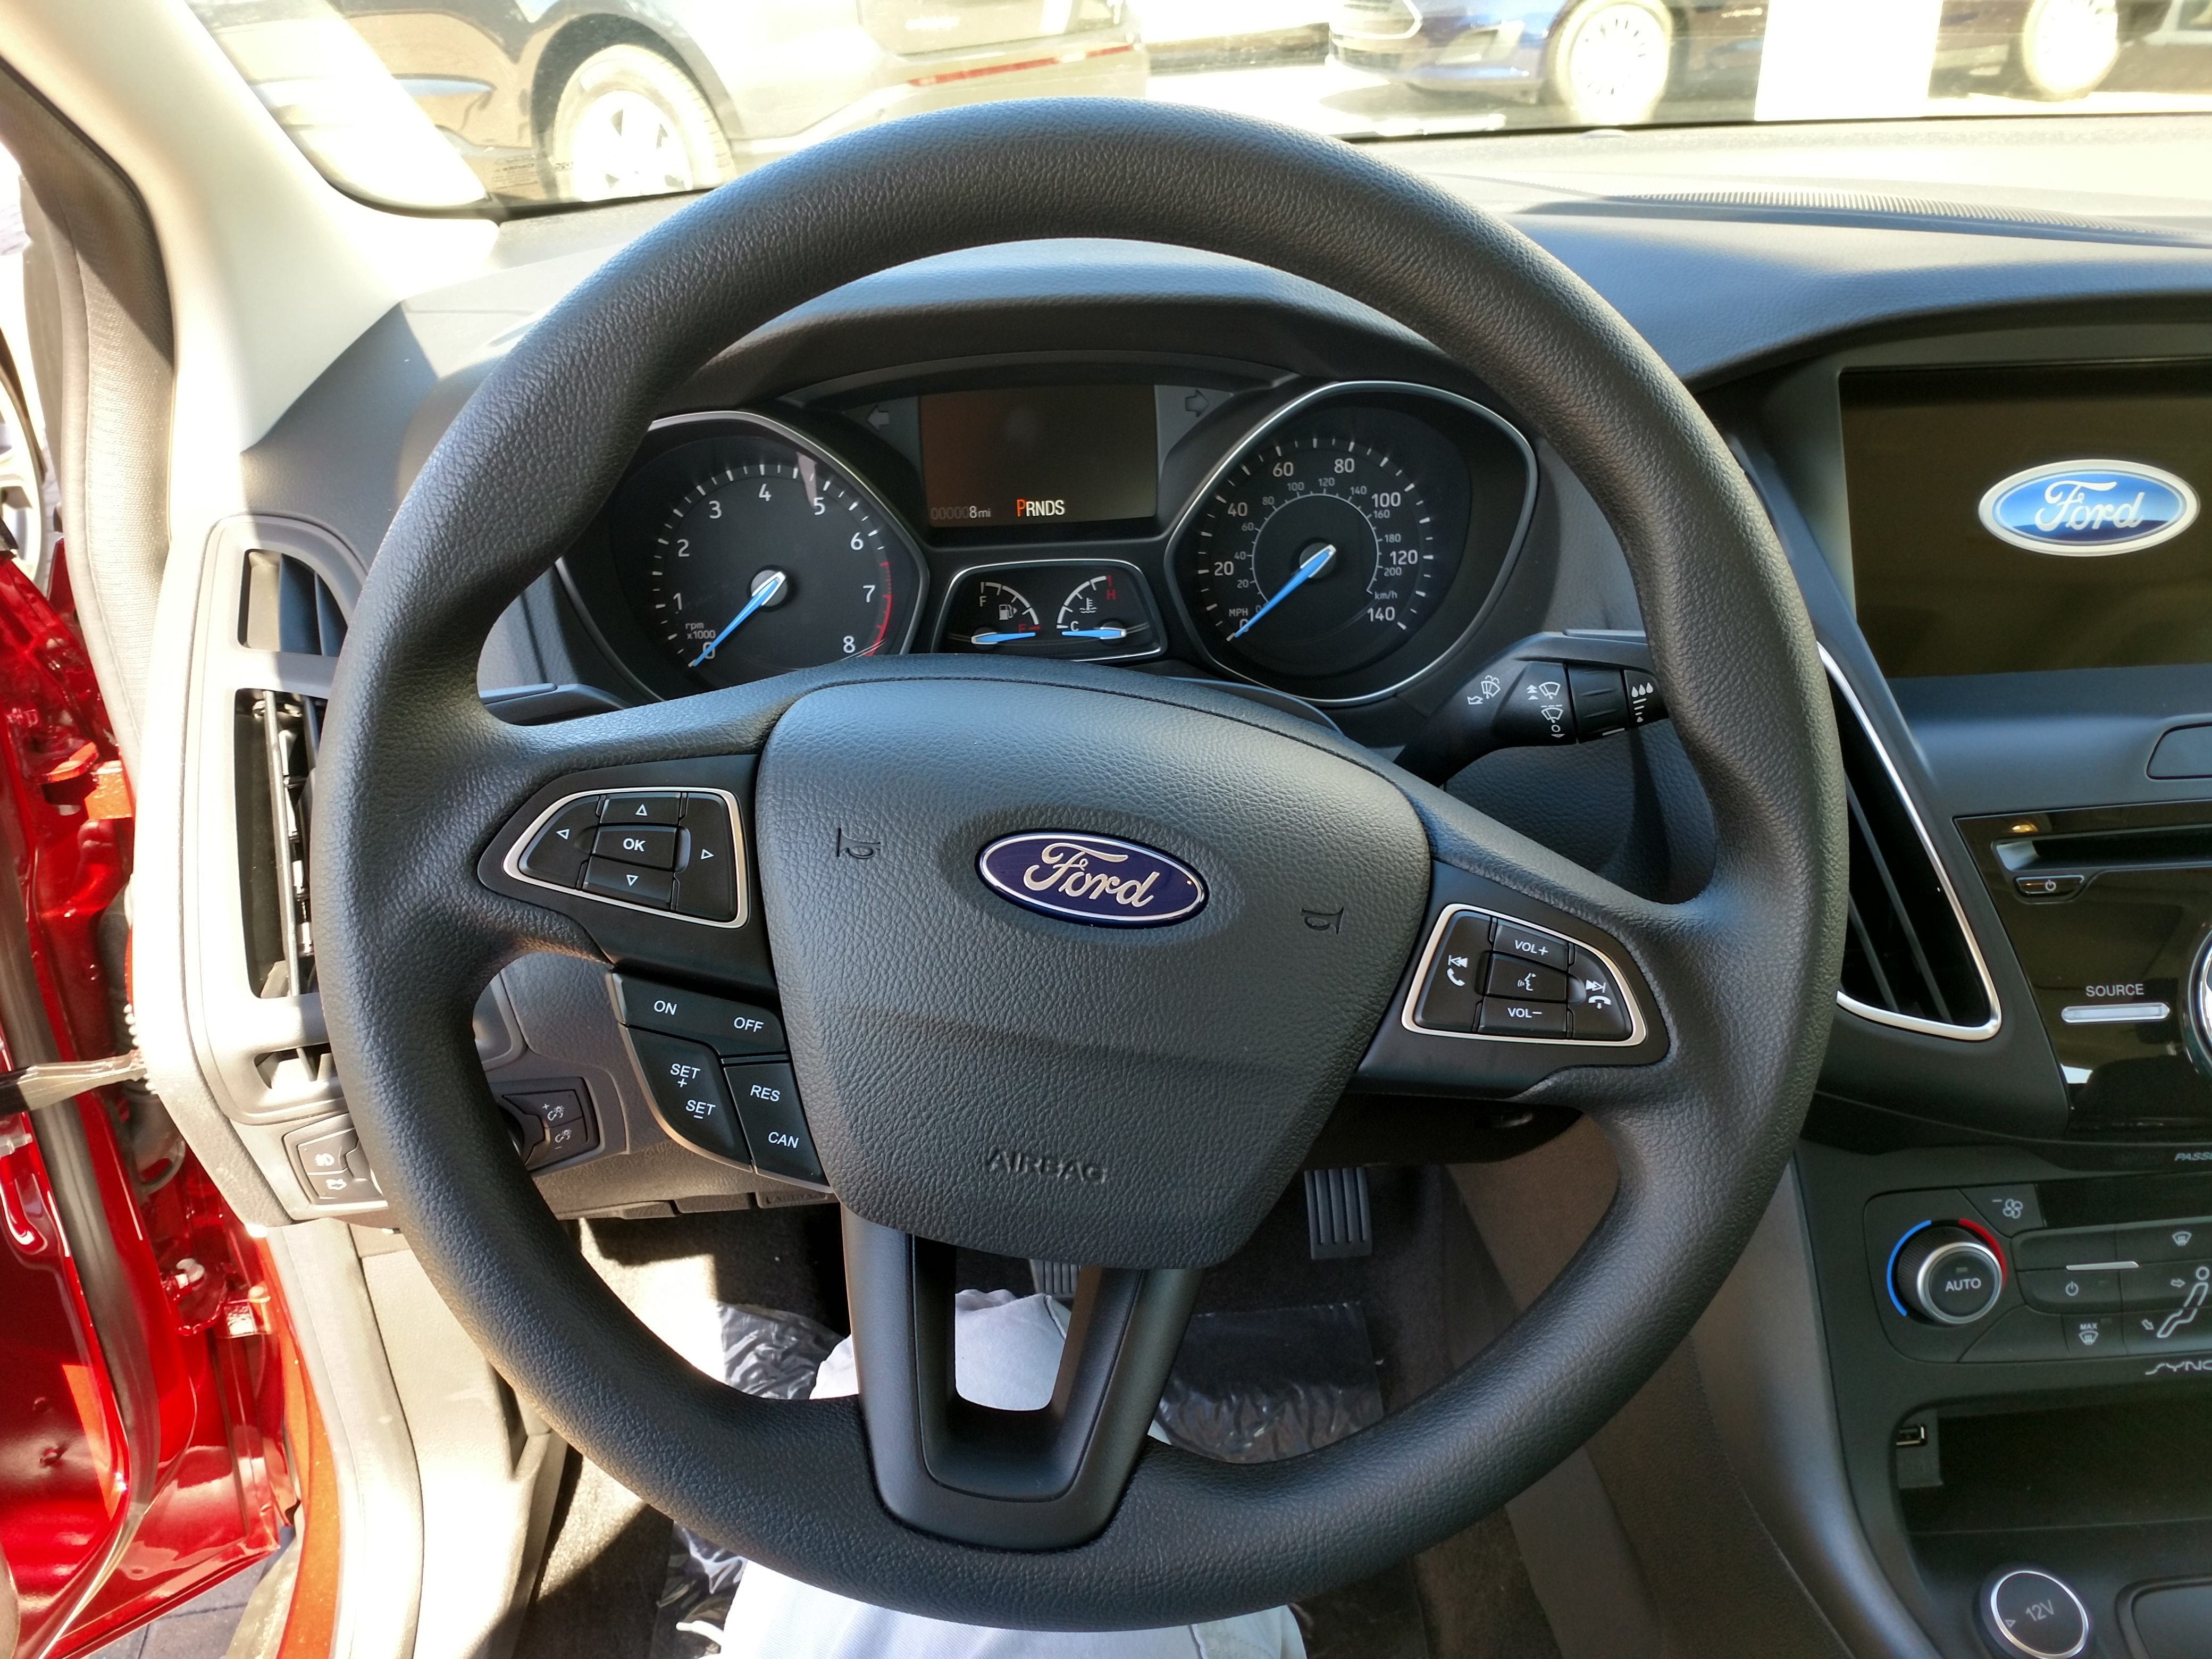Ford: (968, 816, 1221, 943)
